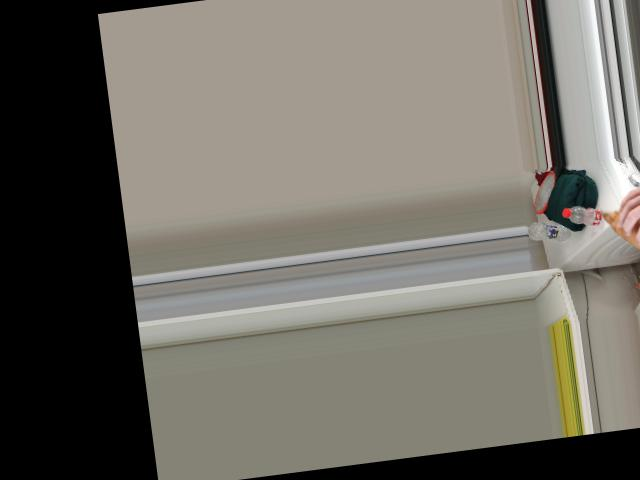sweet_potato: (603, 188, 640, 267)
